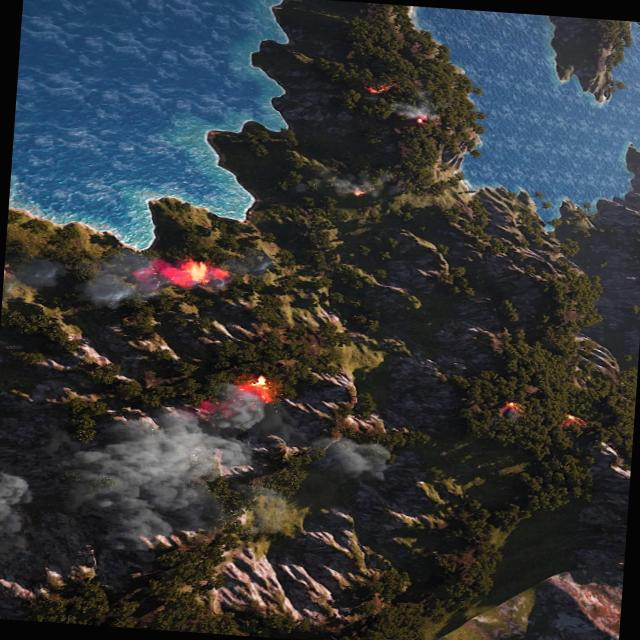fire: (160, 258, 226, 290), (242, 372, 272, 404), (362, 82, 394, 95), (558, 413, 578, 426), (411, 113, 429, 124), (498, 402, 510, 417), (351, 190, 362, 198)
smoke: (0, 372, 300, 578), (1, 234, 273, 319), (287, 167, 402, 207), (319, 437, 394, 482), (395, 98, 439, 125)
